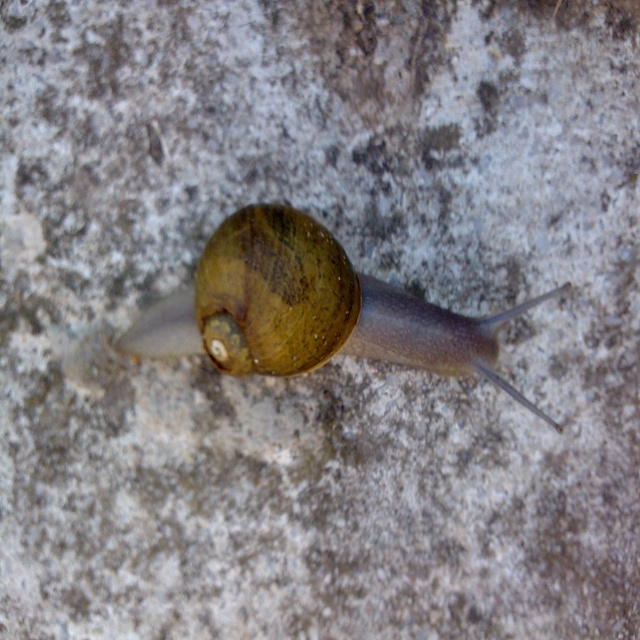Snail: (113, 201, 573, 443)
